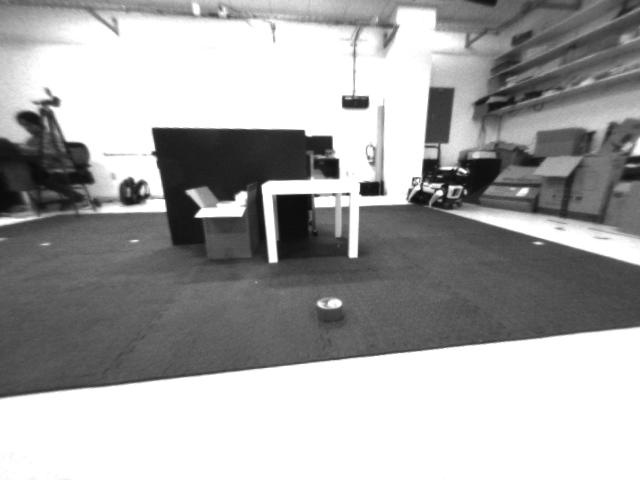dogtoy: (304, 289, 355, 334)
